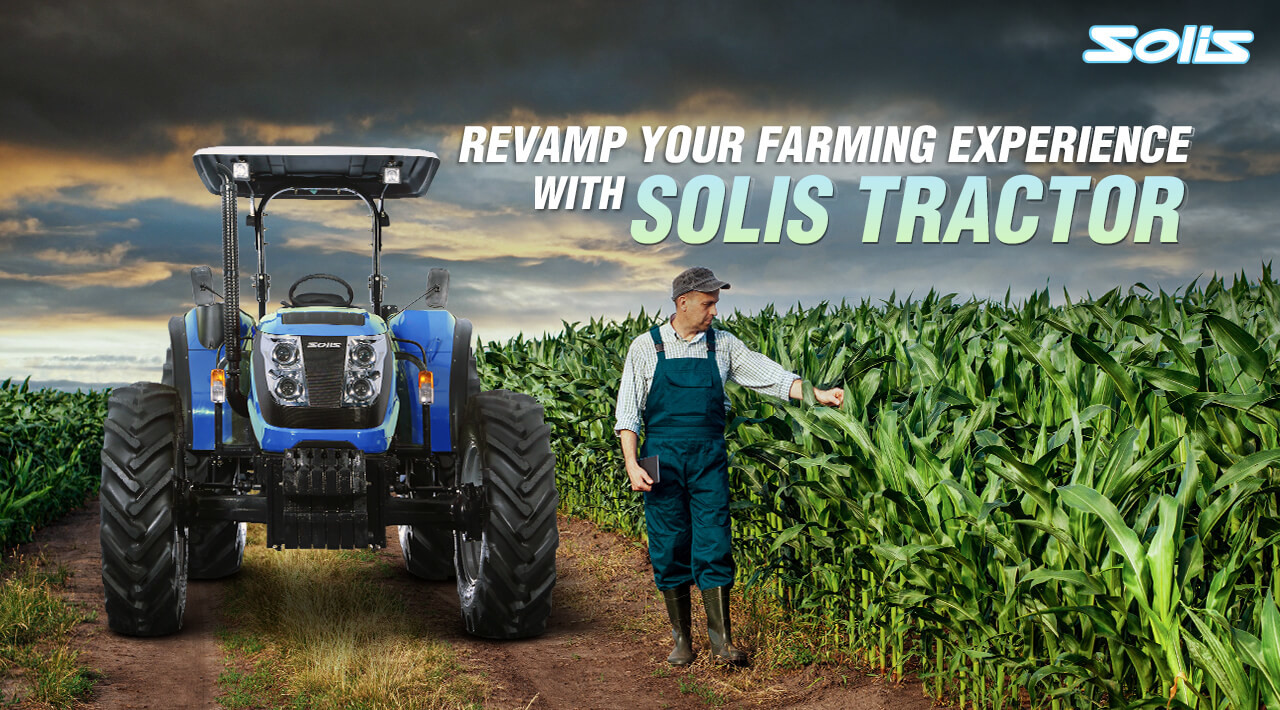tractor: (95, 145, 563, 643)
